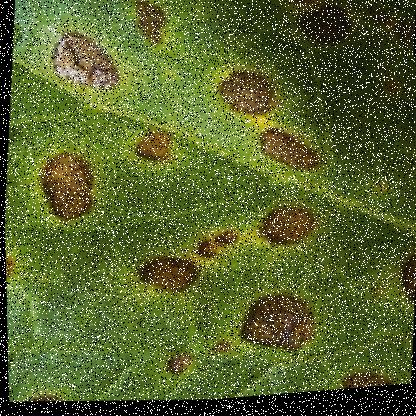AlternariaBrassicicola: (24, 145, 105, 234), (229, 296, 323, 361), (43, 27, 122, 101), (241, 123, 331, 186), (207, 65, 284, 129), (282, 0, 357, 65), (252, 202, 323, 261), (128, 255, 195, 304), (126, 0, 181, 53), (123, 124, 179, 172), (386, 250, 415, 331), (333, 365, 405, 394), (157, 355, 192, 383), (210, 227, 242, 253), (18, 388, 69, 404), (204, 341, 231, 364), (193, 239, 215, 266), (4, 253, 18, 283)
